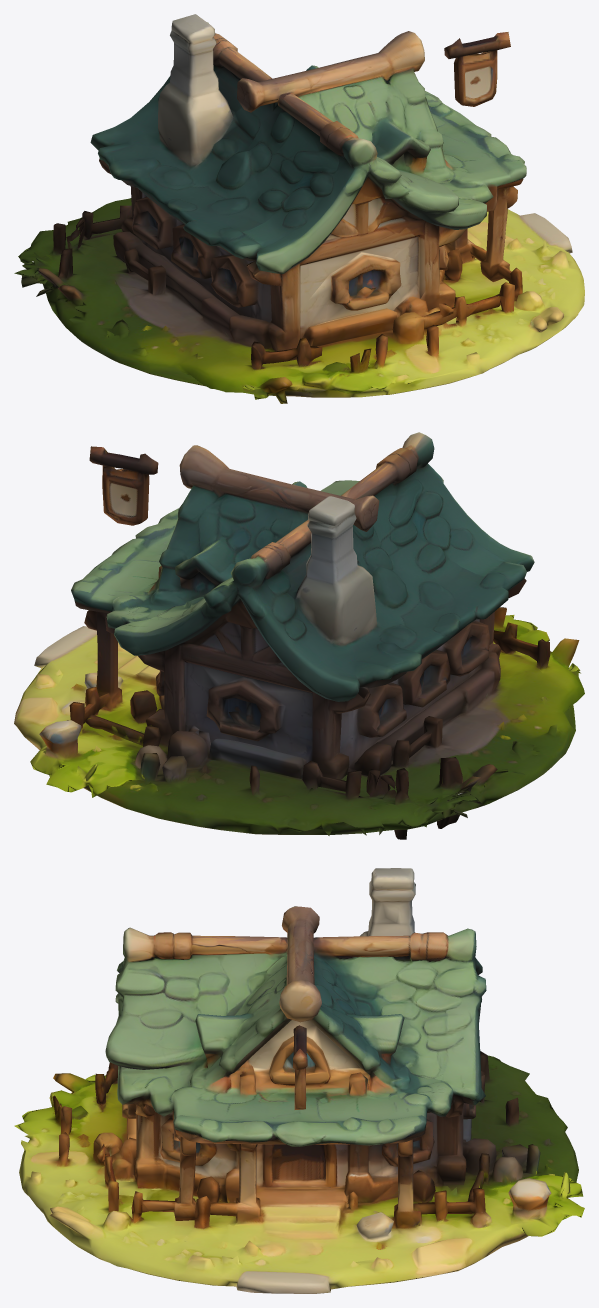
File: taverne.glb
3 views of the same model, one above another, from view 1: azimuth 30°, elevation 25°; view 2: azimuth 150°, elevation 25°; view 3: azimuth 270°, elevation 25° (orthographic). The views are drawn at different scales.
Visible parts, largest first — view 1: tripo_node_e59fba91-08e9-4b4d-9c3a-f3871b98b88d; view 2: tripo_node_e59fba91-08e9-4b4d-9c3a-f3871b98b88d; view 3: tripo_node_e59fba91-08e9-4b4d-9c3a-f3871b98b88d.
Boxes of the visible parts, x1,y1,x2,y2 form: tripo_node_e59fba91-08e9-4b4d-9c3a-f3871b98b88d: (14, 14, 584, 403); tripo_node_e59fba91-08e9-4b4d-9c3a-f3871b98b88d: (14, 432, 584, 839); tripo_node_e59fba91-08e9-4b4d-9c3a-f3871b98b88d: (14, 868, 584, 1293).
Bounding box in the file's own units: 1 × 0.5464 × 0.9991.
1 material, 1 textured.
